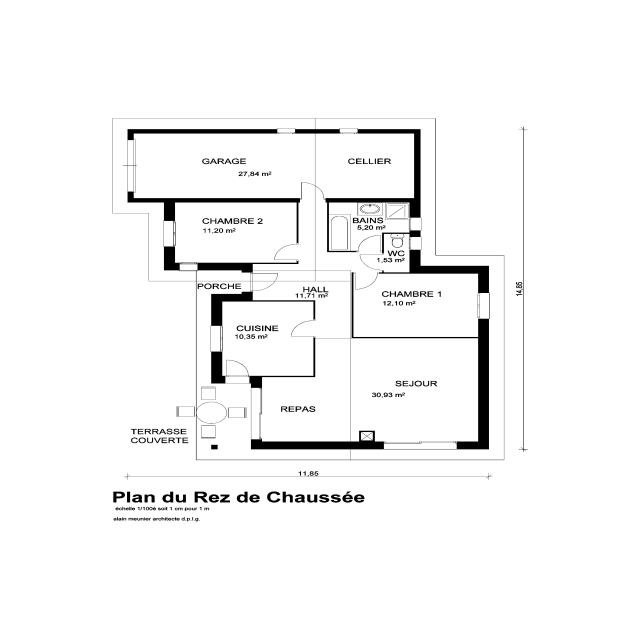door: (247, 271, 280, 292), (296, 182, 328, 202), (271, 242, 302, 262), (356, 233, 384, 254), (223, 358, 251, 379), (289, 318, 318, 338), (352, 273, 378, 290), (359, 254, 383, 270), (177, 261, 200, 274)
window: (378, 439, 463, 449), (125, 138, 139, 196), (474, 290, 491, 323), (162, 219, 177, 250), (210, 324, 224, 354), (273, 127, 299, 136), (336, 127, 362, 136), (410, 216, 422, 233), (410, 235, 422, 252)
zone: (128, 132, 317, 199), (351, 271, 482, 337), (170, 202, 299, 264), (312, 131, 418, 199), (219, 301, 315, 376), (323, 202, 413, 249), (357, 230, 433, 274), (382, 232, 412, 272), (198, 268, 246, 292)
